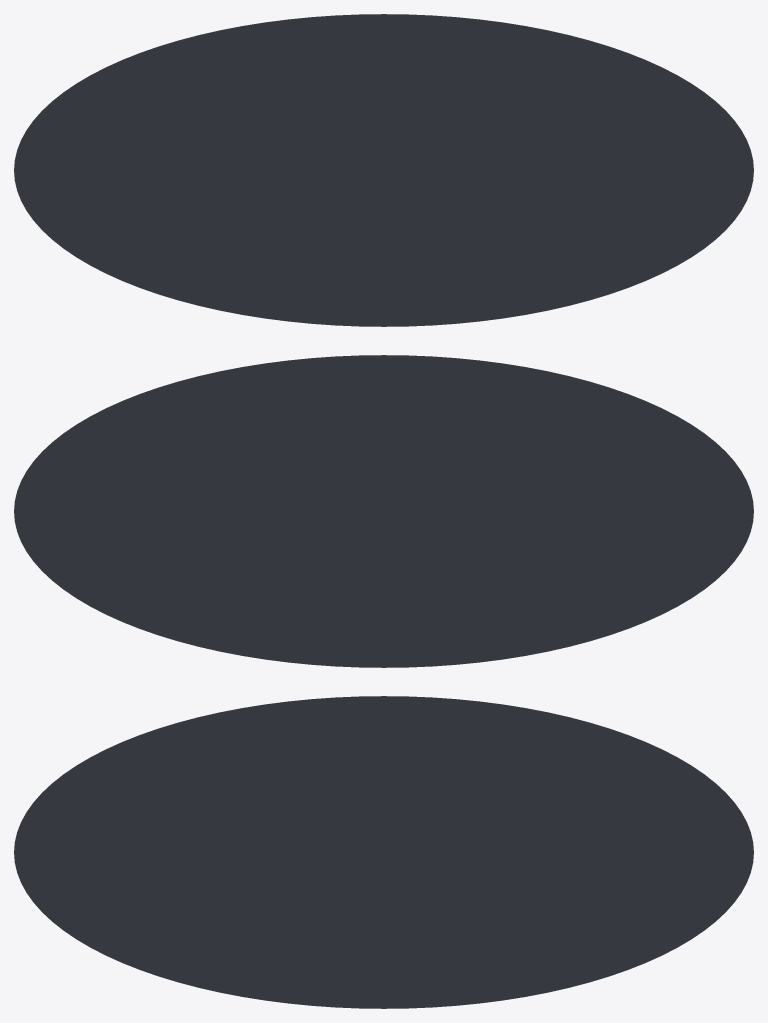
Rendered from stage.glb.
3 views of the same model, one above another, from view 1: azimuth 30°, elevation 25°; view 2: azimuth 150°, elevation 25°; view 3: azimuth 270°, elevation 25° (orthographic).
Parts seen in each view (by area): view 1: stage_disc; view 2: stage_disc; view 3: stage_disc.
Boxes of the visible parts, x1,y1,x2,y2 form: stage_disc: (14,14,753,326); stage_disc: (14,355,753,667); stage_disc: (14,696,753,1008).
Size of the model in its own units: 7.2 by 0 by 7.2.
Materials: 1 (1 with a texture image).
